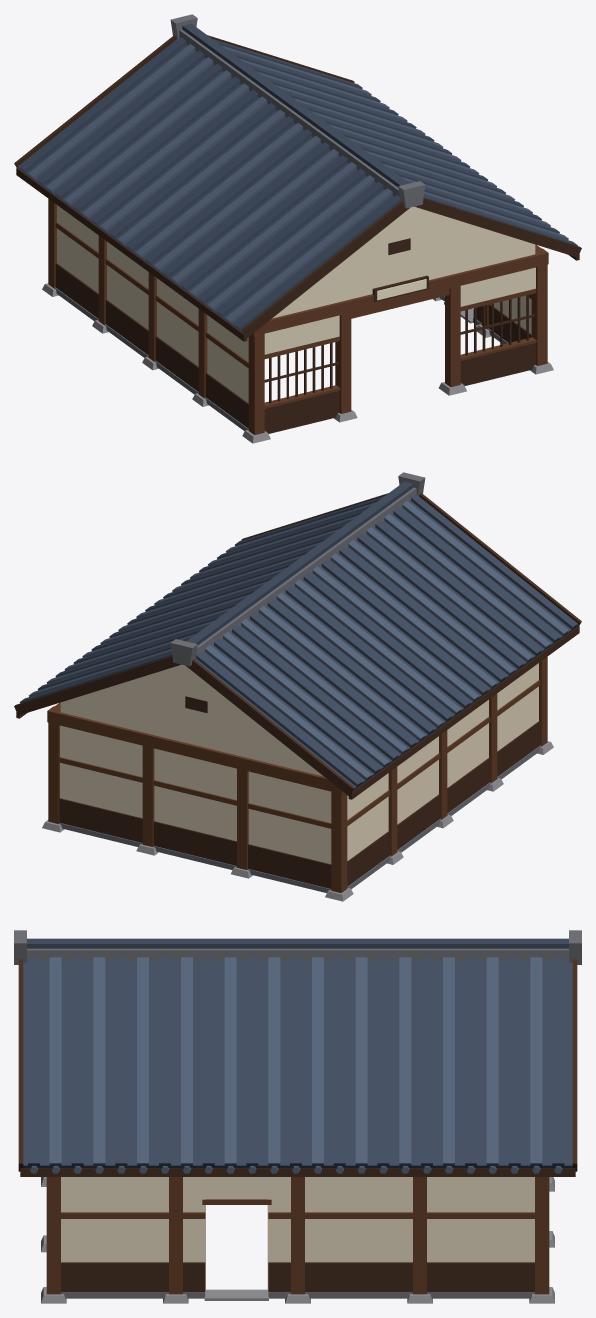
Rendered from Storefront.fbx.
3 views of the same model, one above another, from view 1: azimuth 30°, elevation 25°; view 2: azimuth 150°, elevation 25°; view 3: azimuth 270°, elevation 25° (orthographic). The views are drawn at different scales.
Parts seen in each view (by area): view 1: Storefront_Roof_roof_dk, Storefront_Roof_roof, Storefront_plaster, Storefront_timber, Storefront_timber_dk, Storefront_Roof_plaster, Storefront_Roof_timber_dk, Storefront_Roof_timber, Storefront_Roof_stone_dk, Storefront_stone, Storefront_stone_dk; view 2: Storefront_Roof_roof_dk, Storefront_Roof_roof, Storefront_plaster, Storefront_timber, Storefront_timber_dk, Storefront_Roof_plaster, Storefront_Roof_timber_dk, Storefront_Roof_timber, Storefront_Roof_stone_dk, Storefront_stone_dk, Storefront_stone; view 3: Storefront_Roof_roof_dk, Storefront_Roof_roof, Storefront_plaster, Storefront_timber, Storefront_timber_dk, Storefront_Roof_stone_dk, Storefront_Roof_timber_dk, Storefront_stone_dk, Storefront_stone.
Boxes of the visible parts, box(x1,y1,x2,y2) form: Storefront_Roof_roof_dk: box(17, 23, 577, 332); Storefront_Roof_roof: box(29, 44, 568, 323); Storefront_plaster: box(57, 205, 535, 402); Storefront_timber: box(48, 199, 547, 434); Storefront_timber_dk: box(55, 263, 535, 433); Storefront_Roof_plaster: box(272, 206, 535, 318); Storefront_Roof_timber_dk: box(14, 35, 581, 341); Storefront_Roof_timber: box(252, 244, 548, 335); Storefront_Roof_stone_dk: box(170, 14, 425, 208); Storefront_stone: box(42, 283, 553, 443); Storefront_stone_dk: box(54, 287, 508, 430); Storefront_Roof_roof_dk: box(19, 481, 578, 790); Storefront_Roof_roof: box(28, 501, 568, 780); Storefront_plaster: box(60, 663, 538, 864); Storefront_timber: box(48, 657, 547, 892); Storefront_timber_dk: box(59, 721, 540, 888); Storefront_Roof_plaster: box(60, 664, 323, 776); Storefront_Roof_timber_dk: box(14, 493, 581, 799); Storefront_Roof_timber: box(47, 702, 343, 793); Storefront_Roof_stone_dk: box(170, 472, 425, 666); Storefront_stone_dk: box(58, 745, 541, 892); Storefront_stone: box(42, 741, 553, 901); Storefront_Roof_roof_dk: box(23, 938, 572, 1168); Storefront_Roof_roof: box(29, 957, 562, 1173); Storefront_plaster: box(61, 1177, 534, 1295); Storefront_timber: box(46, 1177, 549, 1294); Storefront_timber_dk: box(61, 1262, 534, 1292); Storefront_Roof_stone_dk: box(14, 930, 581, 964); Storefront_Roof_timber_dk: box(18, 959, 577, 1176); Storefront_stone_dk: box(61, 1292, 534, 1298); Storefront_stone: box(41, 1177, 554, 1303).
Size of the model in its own units: 37.22 by 23.82 by 44.2.
